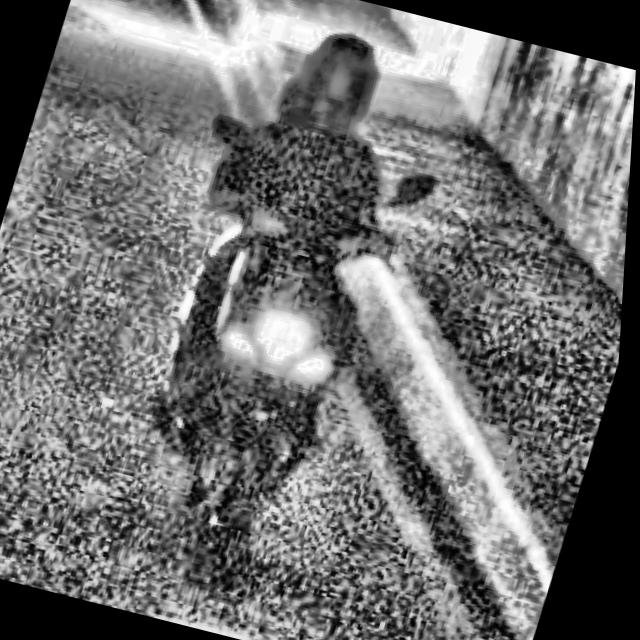motorcycle: (82, 101, 452, 566)
